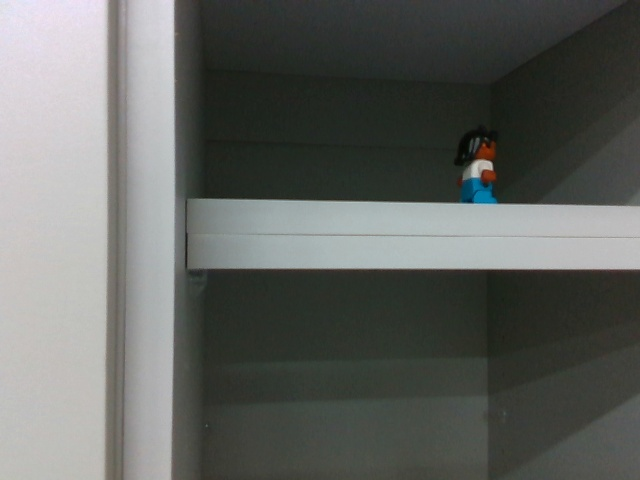people: (454, 126, 503, 208)
